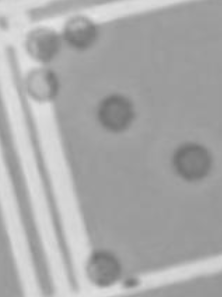cell: (90, 88, 137, 136), (169, 137, 214, 187), (80, 246, 125, 289), (59, 10, 102, 53), (19, 63, 63, 105), (20, 24, 62, 66)
